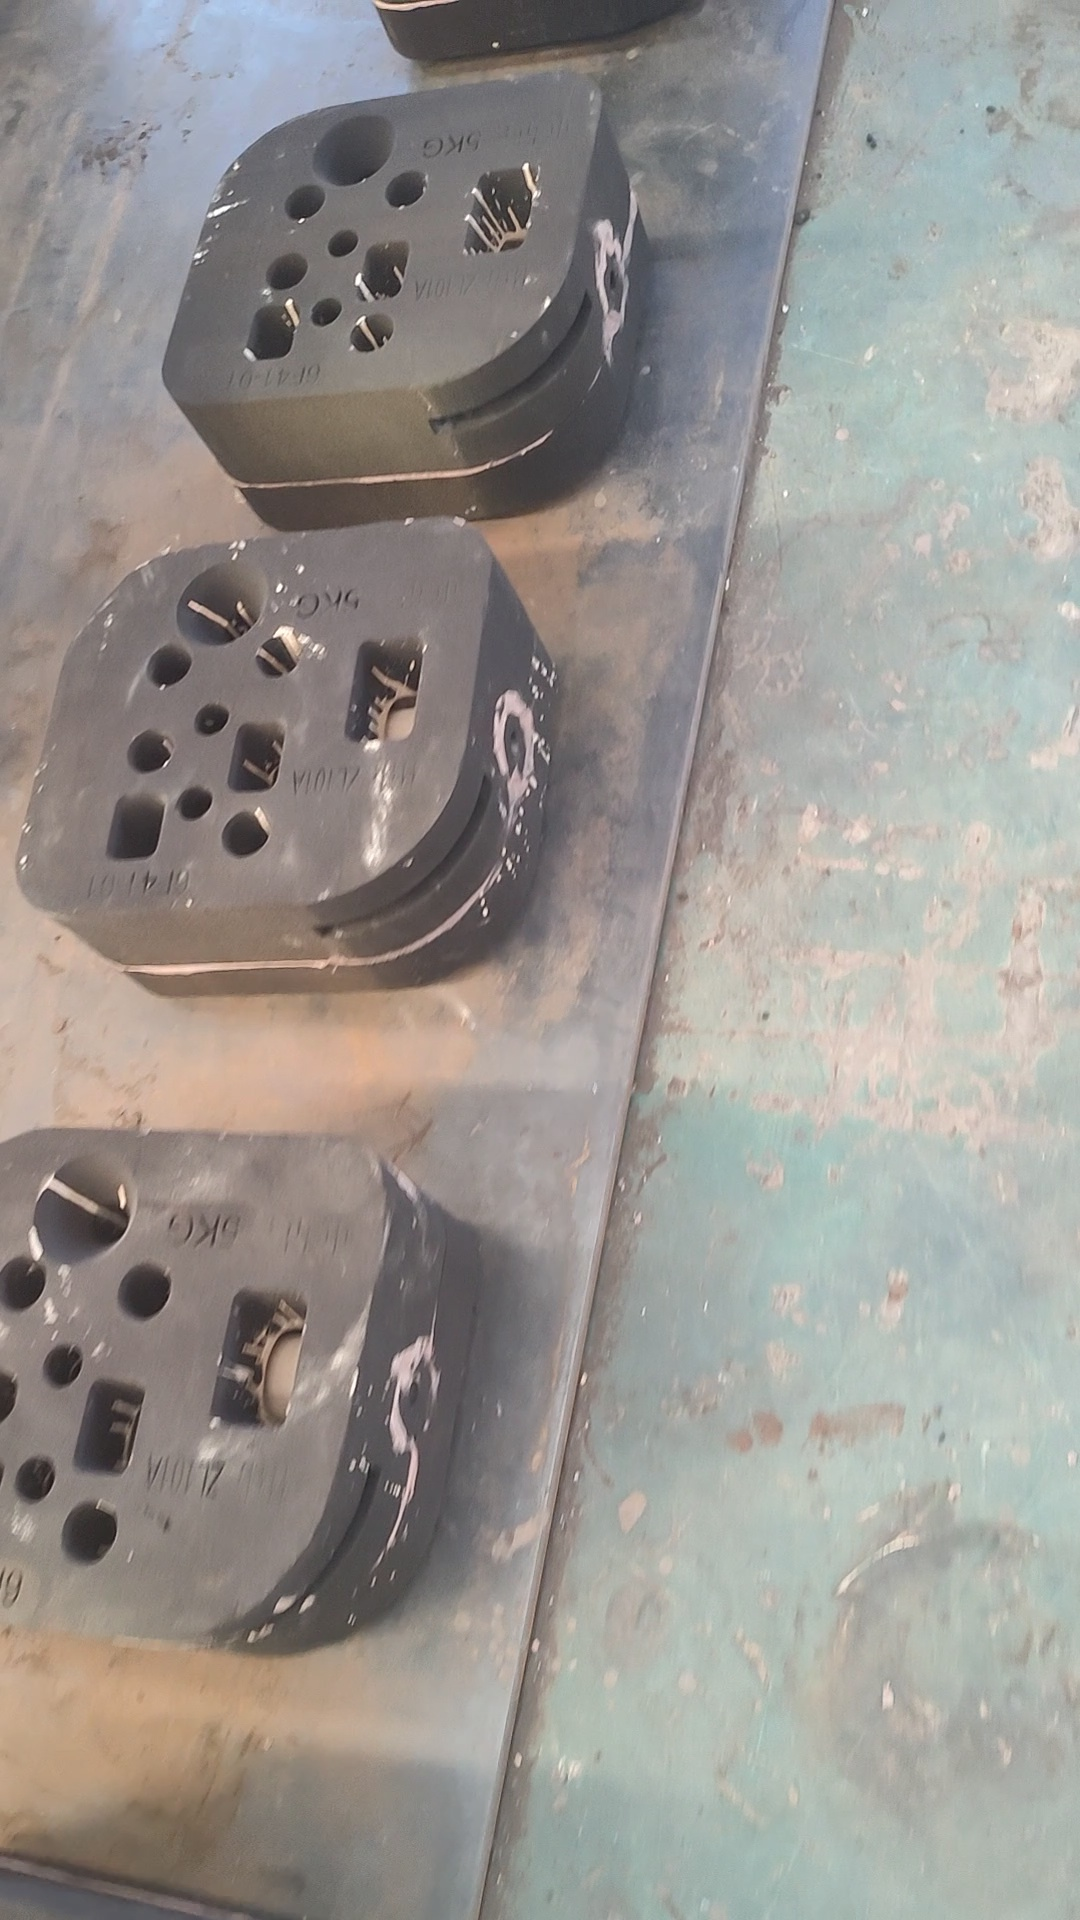pouring hole: (33, 1150, 135, 1266), (177, 559, 266, 644), (313, 113, 394, 187)
